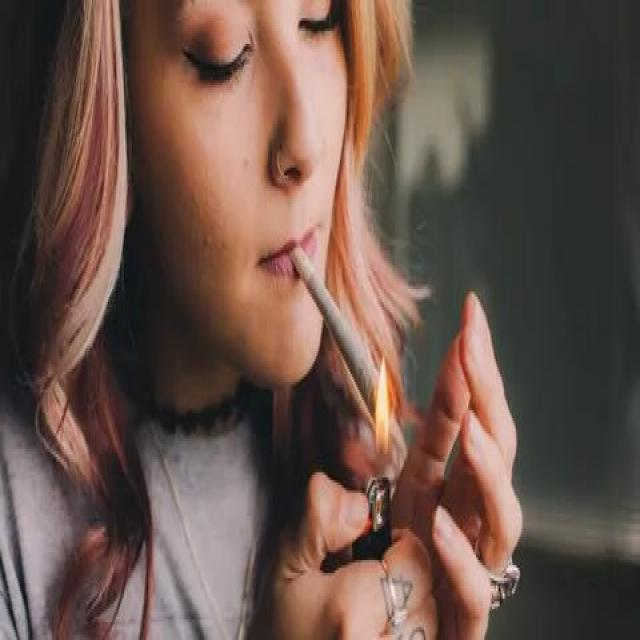smoke: (288, 242, 389, 438)
